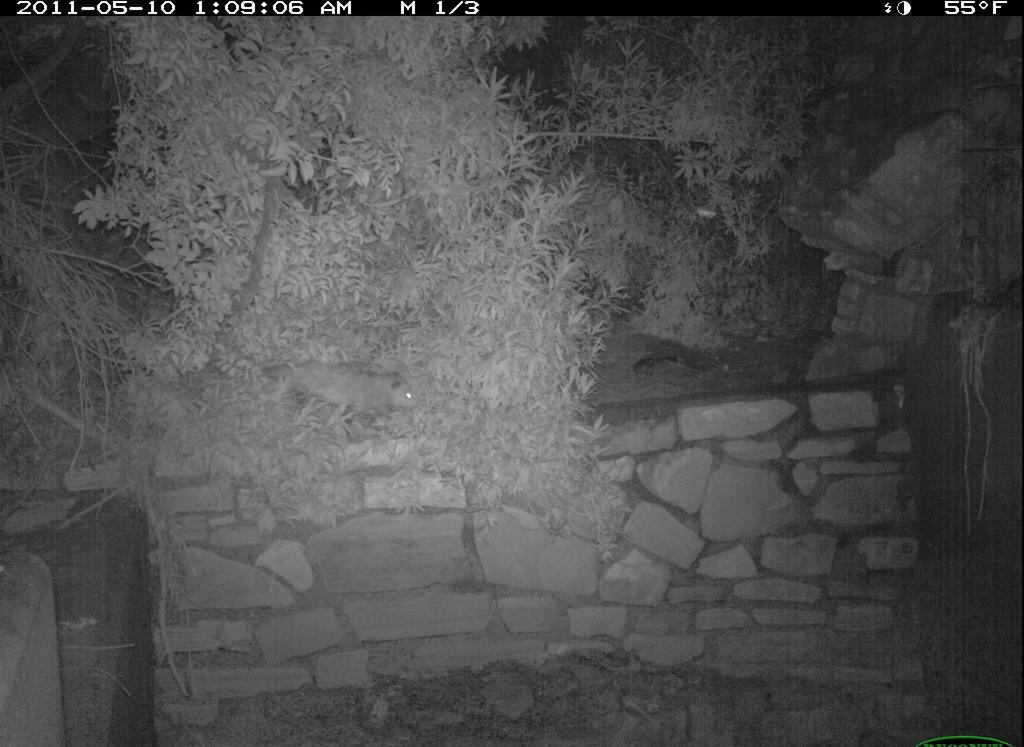opossum: (262, 351, 431, 443)
